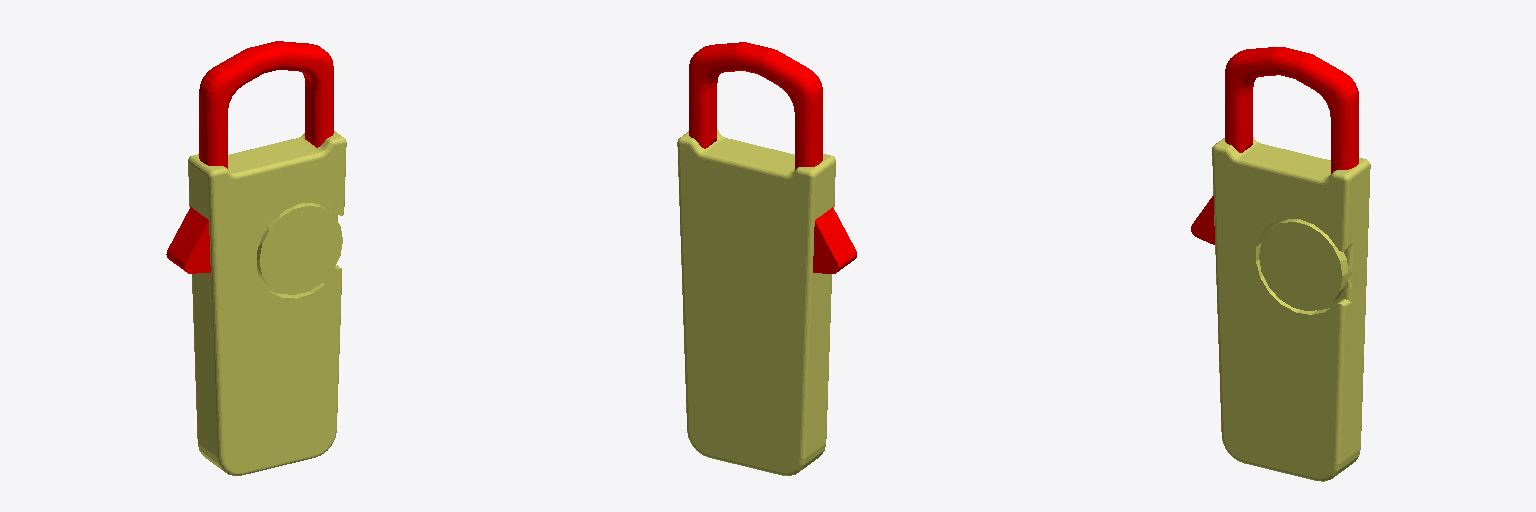
The model's file is Meter.obj.
3 renders of one model, left to right at view 1: azimuth 30°, elevation 25°; view 2: azimuth 150°, elevation 25°; view 3: azimuth 330°, elevation 25°, orthographic.
Visible parts, largest first — view 1: Body, Body002, Body001; view 2: Body, Body002, Body001; view 3: Body, Body002, Body001.
Boxes of the visible parts, x1,y1,x2,y2 form: Body: [188, 131, 346, 475]; Body002: [199, 41, 333, 168]; Body001: [166, 207, 210, 273]; Body: [677, 129, 835, 475]; Body002: [689, 42, 822, 169]; Body001: [813, 207, 856, 273]; Body: [1212, 137, 1370, 481]; Body002: [1225, 47, 1358, 173]; Body001: [1191, 196, 1214, 244].
Size of the model in its own units: 95.9 by 235 by 25.4.